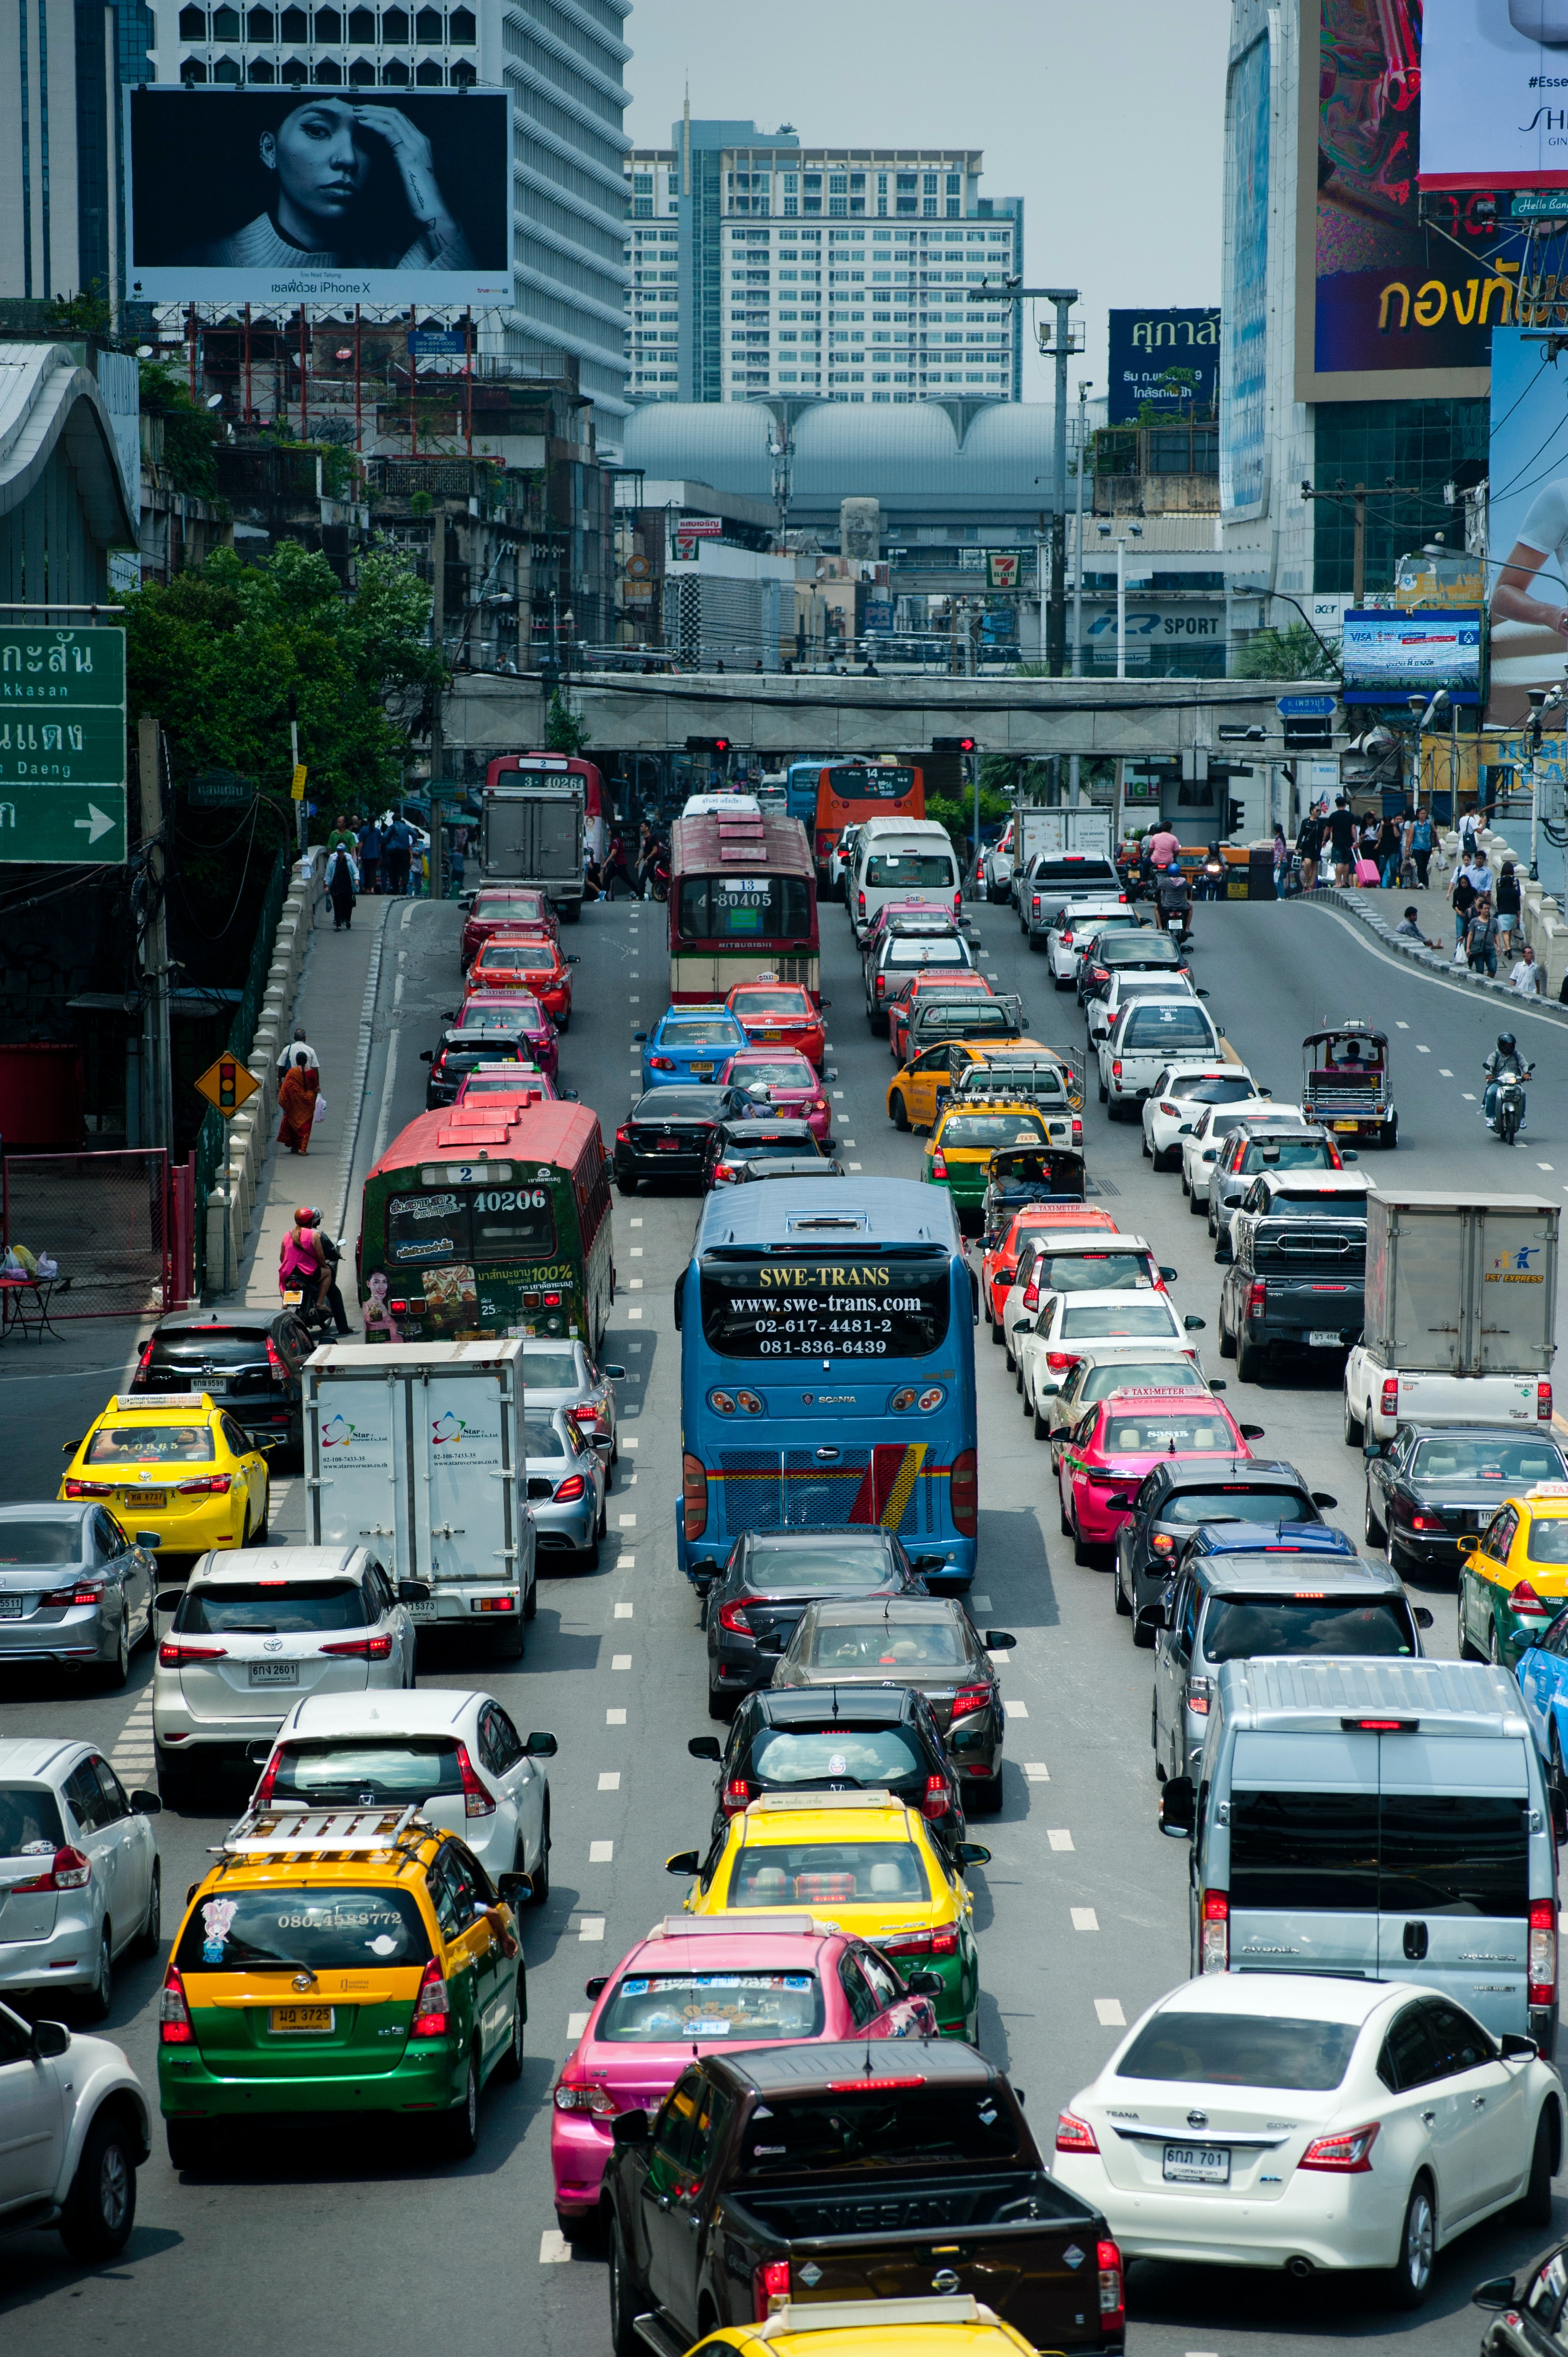bike: (276, 1220, 355, 1342), (1487, 1039, 1529, 1136)
bus: (667, 1186, 992, 1573), (364, 1106, 625, 1382), (667, 803, 826, 1031)
car: (1057, 1972, 1568, 2305), (602, 2039, 1122, 2343), (1195, 1668, 1568, 2061), (185, 1829, 527, 2154), (553, 1941, 931, 2208), (674, 1797, 999, 2012), (241, 1694, 560, 1909), (149, 1549, 415, 1783), (1162, 1554, 1421, 1783), (1381, 1438, 1564, 1589), (70, 1402, 278, 1533), (1127, 1465, 1302, 1619), (1073, 1407, 1263, 1536), (2, 1501, 138, 1680), (1230, 1220, 1374, 1386), (140, 1309, 301, 1452), (1039, 1298, 1188, 1402), (926, 1115, 1067, 1200), (868, 917, 975, 1015), (714, 1055, 826, 1141), (1151, 1066, 1256, 1148), (625, 1097, 719, 1165)
truck: (292, 1340, 546, 1640)
